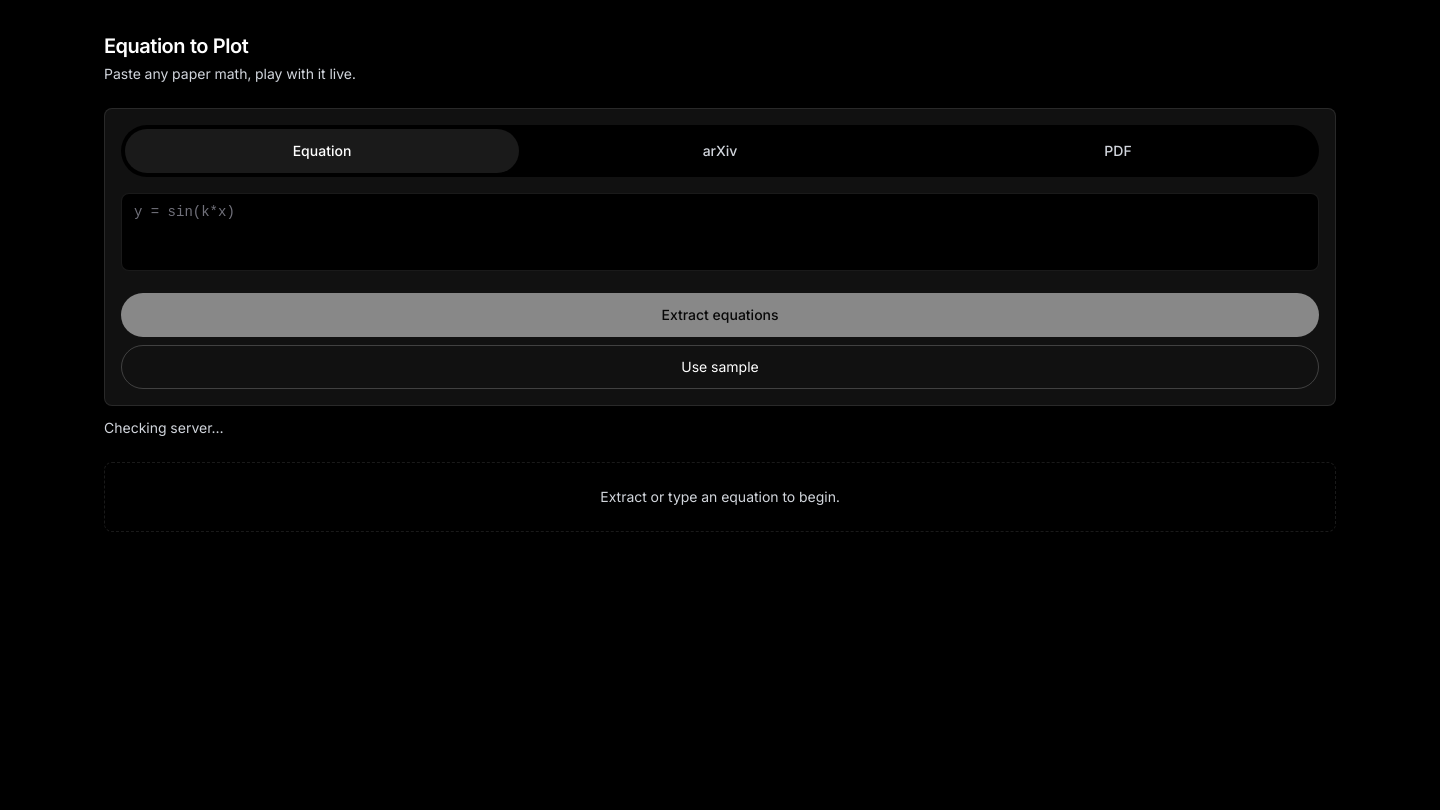
Test: F3 caps › list header shows backend warning verbatim
In the text box named "Equation text": coordinates (720, 232) [121,193,1319,271], type "y=x"
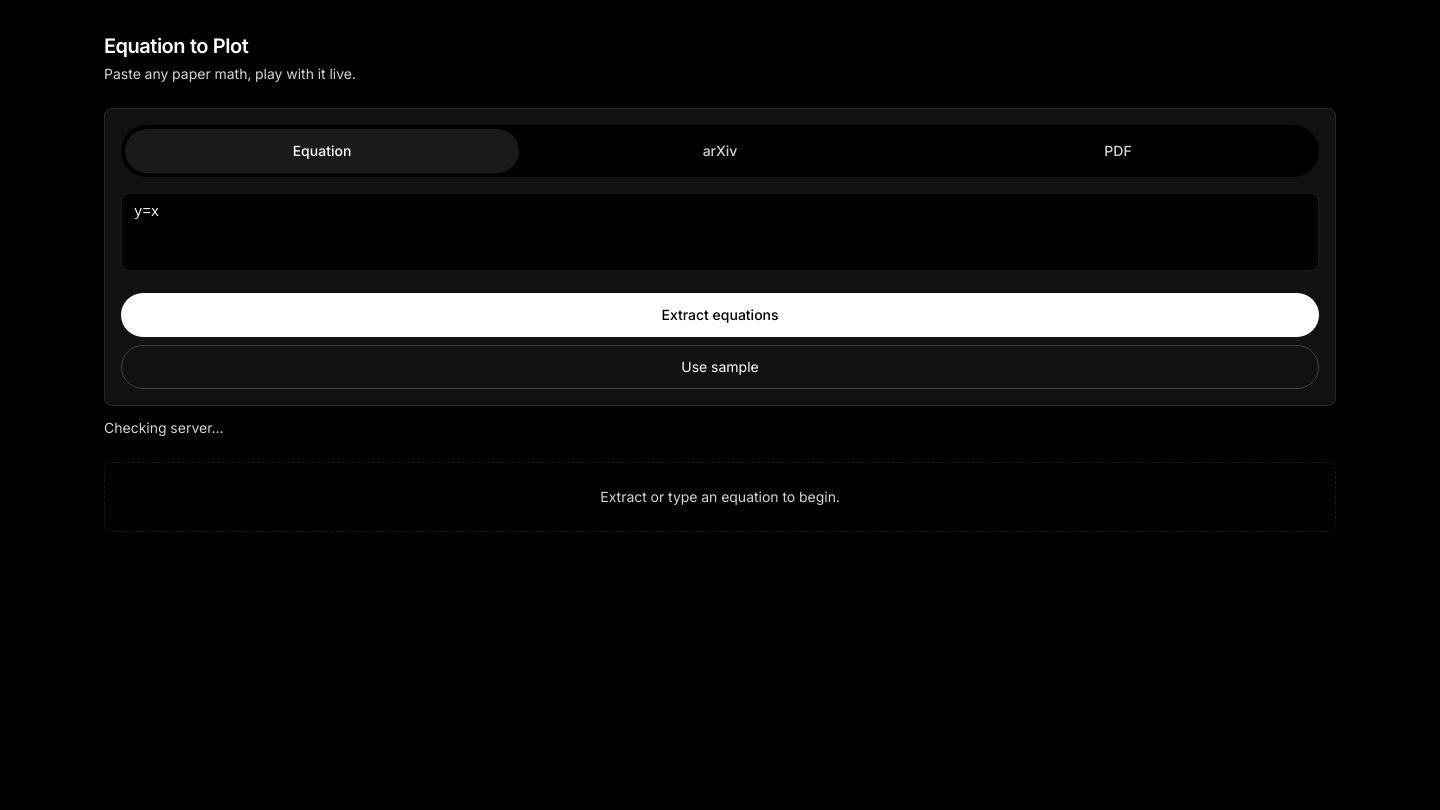
Click the button "Extract equations": coordinates (720, 315) [121,293,1319,337]
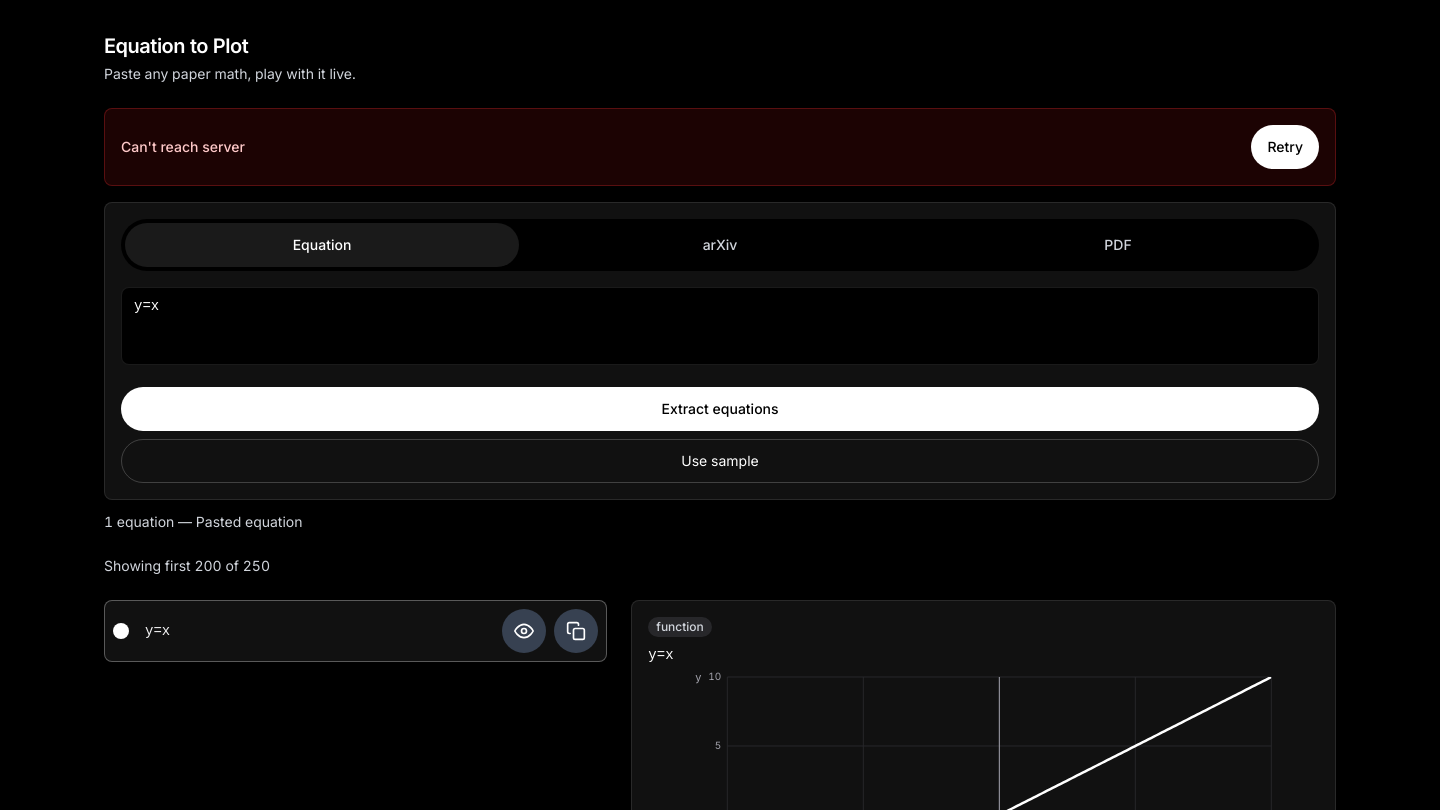
Expected: the text "Showing first 200 of 250" is shown, [104,557,270,574]
